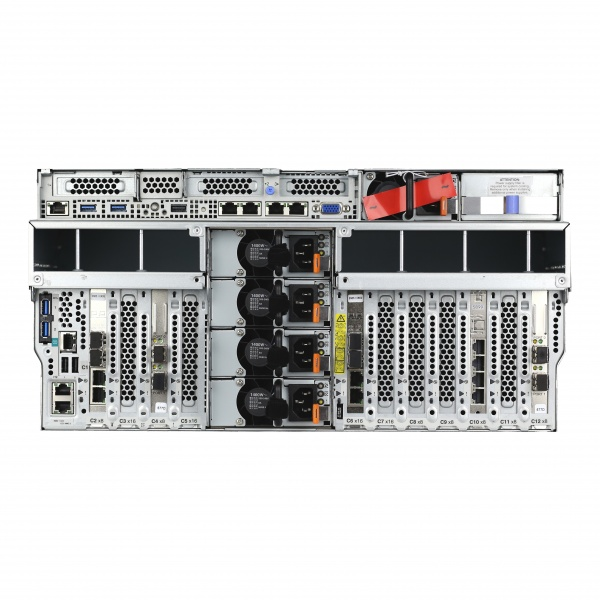ibm-server: (27, 156, 573, 438)
